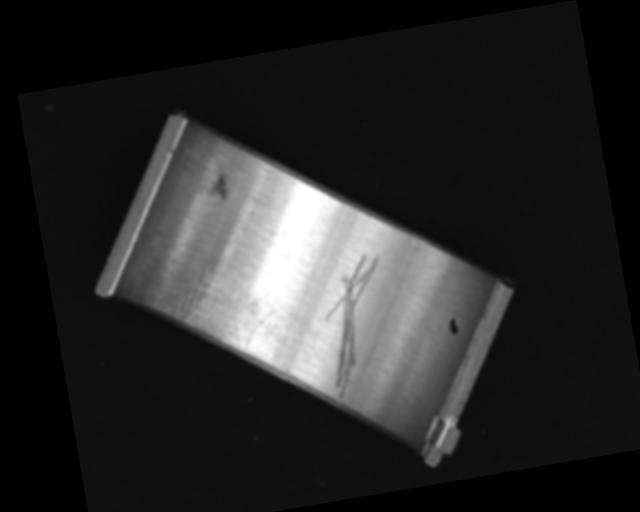blot: (447, 315, 461, 337)
bruise: (208, 173, 231, 204)
nick: (313, 251, 403, 409)
scratch: (148, 254, 290, 366)
